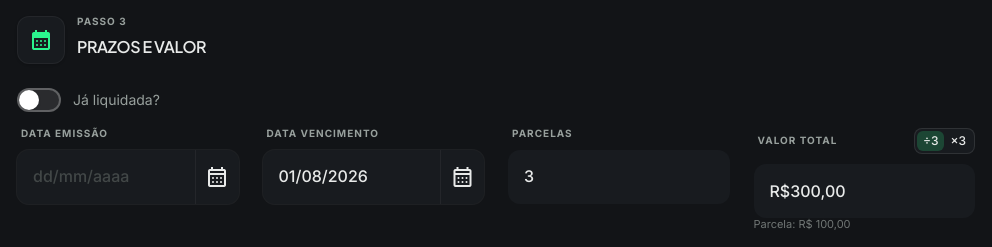
it: TermsValueSection › switches to parcela mode and shows "Valor Parcela" label
Step 1. Click the button titled "Parcela × 3x" → (958, 141), box [944, 131, 972, 151]
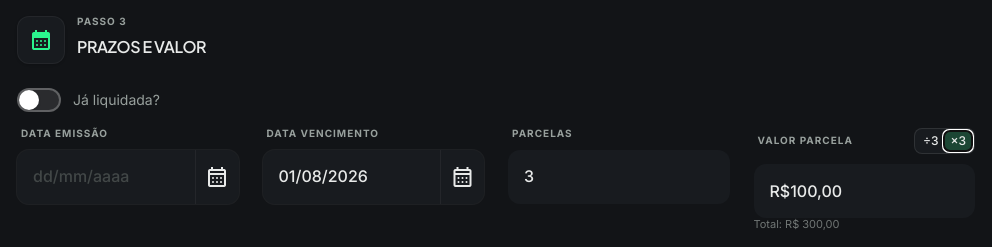
Result: the text "Valor Parcela" is shown at [758, 135, 853, 147]
